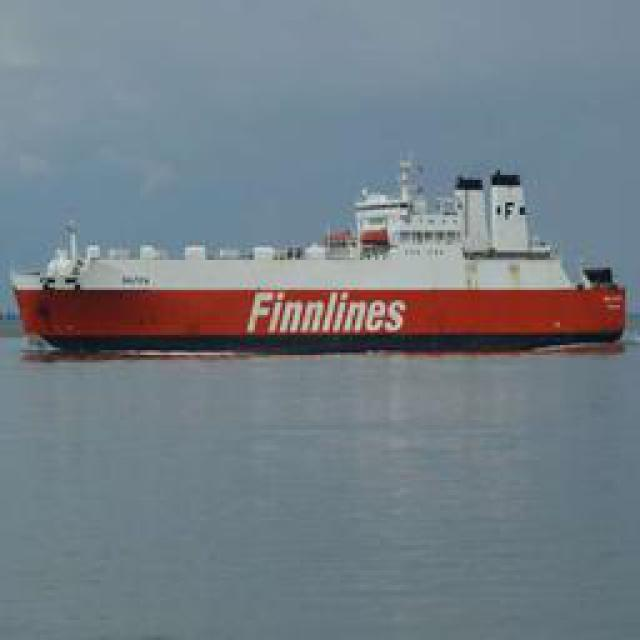Ship: (20, 151, 625, 354)
